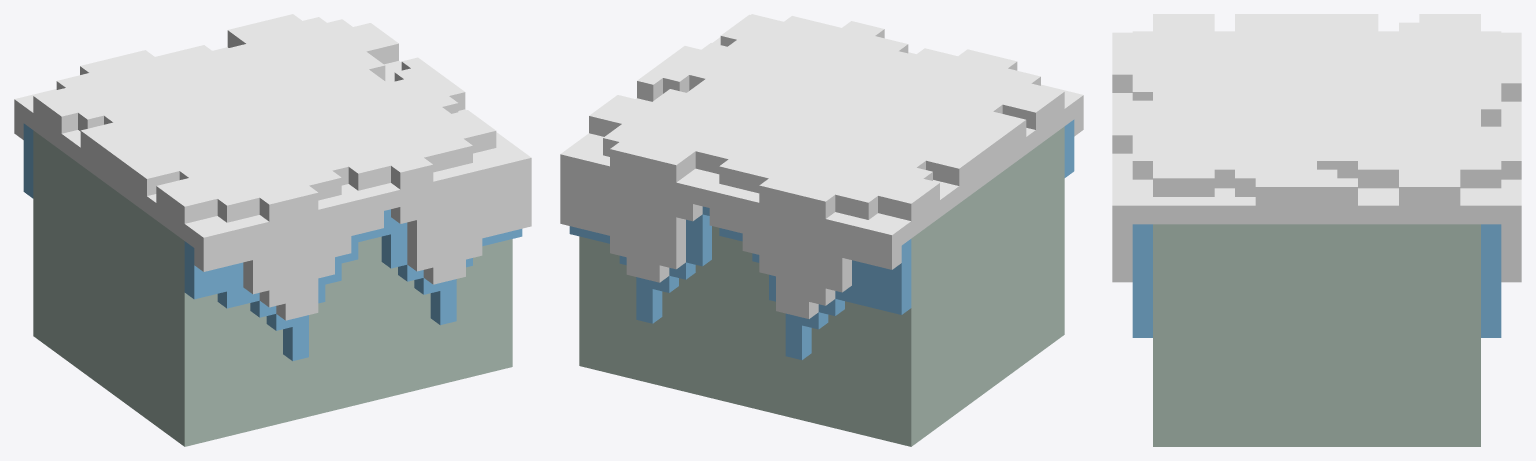
The model's file is Floors-29.obj.
3 renders of one model, left to right at view 1: azimuth 30°, elevation 25°; view 2: azimuth 150°, elevation 25°; view 3: azimuth 270°, elevation 25°, orthographic. The views are drawn at different scales.
Bounding box in the file's own units: 2 × 1.4 × 2.
1 material, 1 textured.
